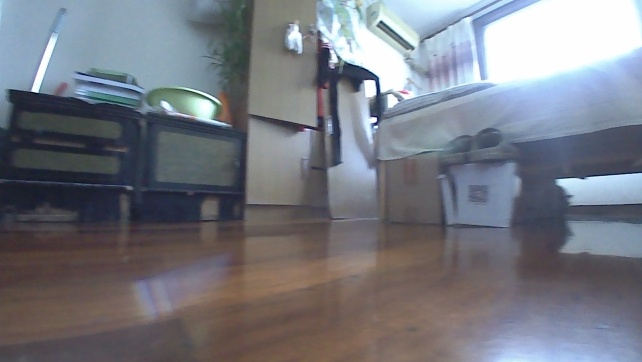bed1: (368, 43, 641, 223)
cabinet: (0, 85, 248, 227)
shoe: (469, 125, 520, 163)
